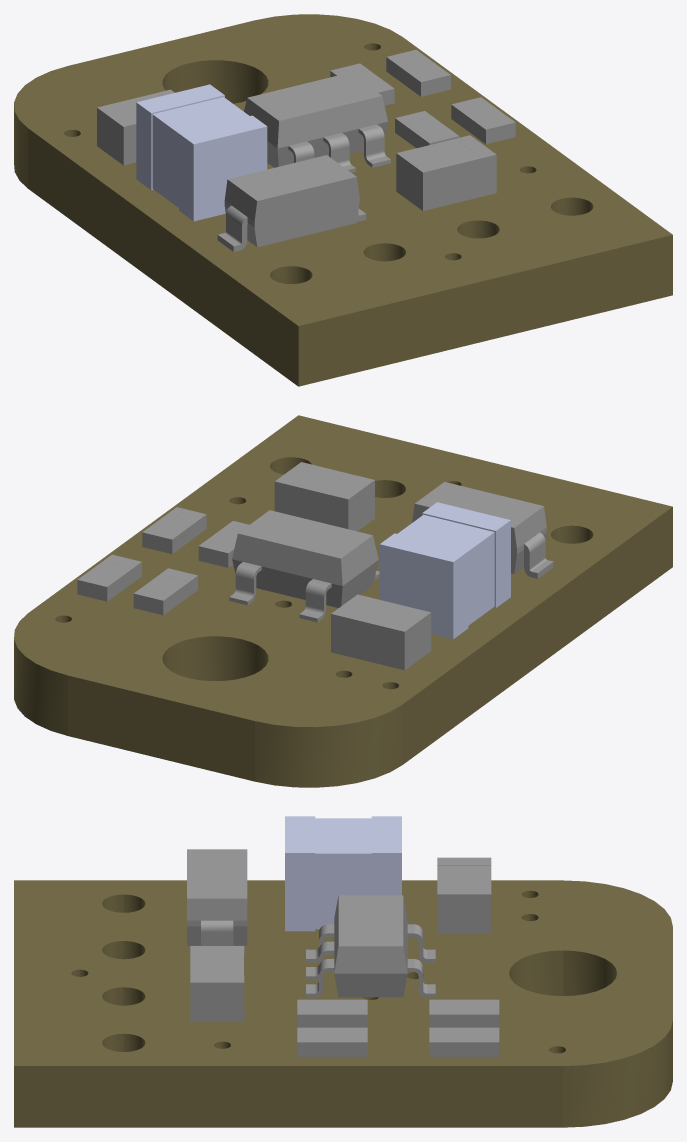
The model's file is ada-5644.glb.
3 renders of one model, top to bottom at view 1: azimuth 30°, elevation 25°; view 2: azimuth 150°, elevation 25°; view 3: azimuth 270°, elevation 25°, orthographic.
Parts seen in each view (by area): view 1: 0.16666666666666666_0.16666666666666666_0.08333333333333333_, 0.3333333333333333_0.3333333333333333_0.3333333333333333_0, 0.5833333333333334_0.6666666666666666_0.8333333333333334_0; view 2: 0.16666666666666666_0.16666666666666666_0.08333333333333333_, 0.3333333333333333_0.3333333333333333_0.3333333333333333_0, 0.5833333333333334_0.6666666666666666_0.8333333333333334_0; view 3: 0.16666666666666666_0.16666666666666666_0.08333333333333333_, 0.3333333333333333_0.3333333333333333_0.3333333333333333_0, 0.5833333333333334_0.6666666666666666_0.8333333333333334_0.
Part boxes in pixels (x1=…): 0.16666666666666666_0.16666666666666666_0.08333333333333333_: x1=14, y1=14, x2=672, y2=386; 0.3333333333333333_0.3333333333333333_0.3333333333333333_0: x1=97, y1=49, x2=515, y2=251; 0.5833333333333334_0.6666666666666666_0.8333333333333334_0: x1=136, y1=84, x2=267, y2=221; 0.16666666666666666_0.16666666666666666_0.08333333333333333_: x1=14, y1=415, x2=672, y2=787; 0.3333333333333333_0.3333333333333333_0.3333333333333333_0: x1=77, y1=462, x2=553, y2=670; 0.5833333333333334_0.6666666666666666_0.8333333333333334_0: x1=379, y1=502, x2=510, y2=639; 0.16666666666666666_0.16666666666666666_0.08333333333333333_: x1=14, y1=880, x2=672, y2=1127; 0.3333333333333333_0.3333333333333333_0.3333333333333333_0: x1=187, y1=849, x2=499, y2=1057; 0.5833333333333334_0.6666666666666666_0.8333333333333334_0: x1=285, y1=816, x2=401, y2=931.
Size of the model in its own units: 1.02 by 0.357 by 1.52.
